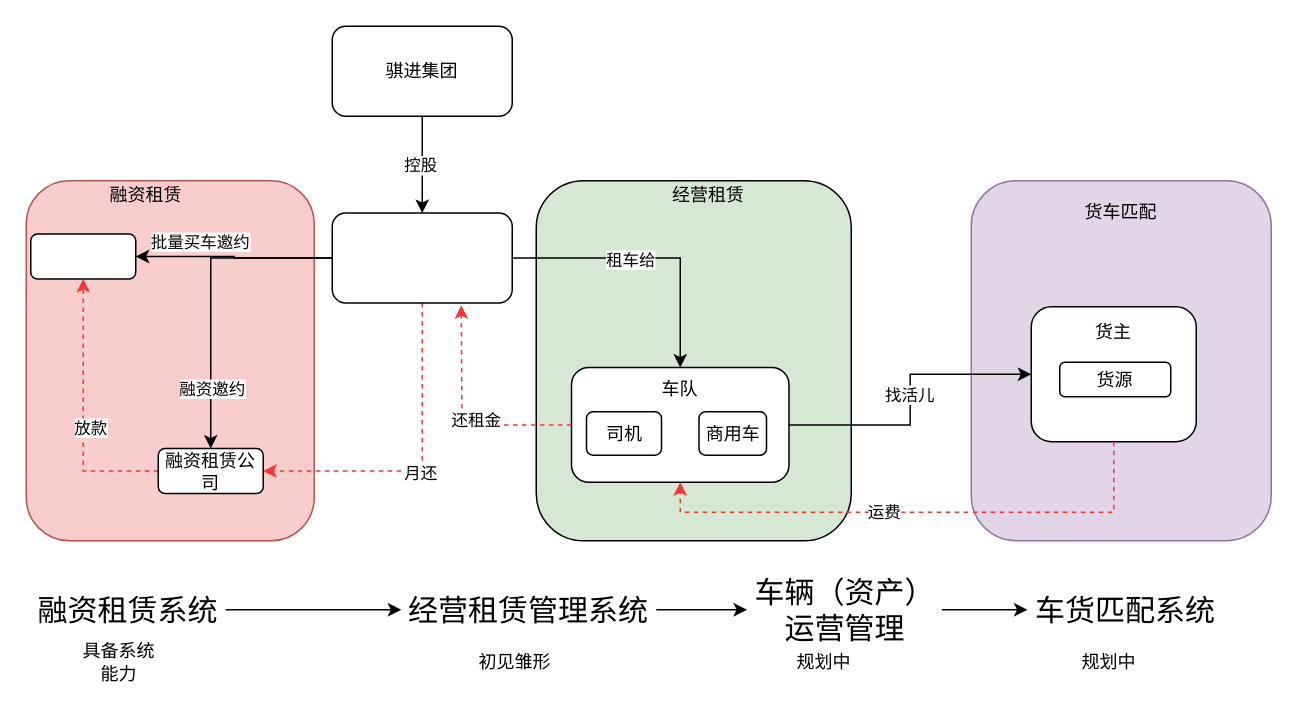
Some shapes in this 1298 by 711 pixel diagram are drawn without their labels. Each missing label, with the centre of its shape:
主机厂: the point at 82,255
持车平台 （合资公司）: the point at 421,257
